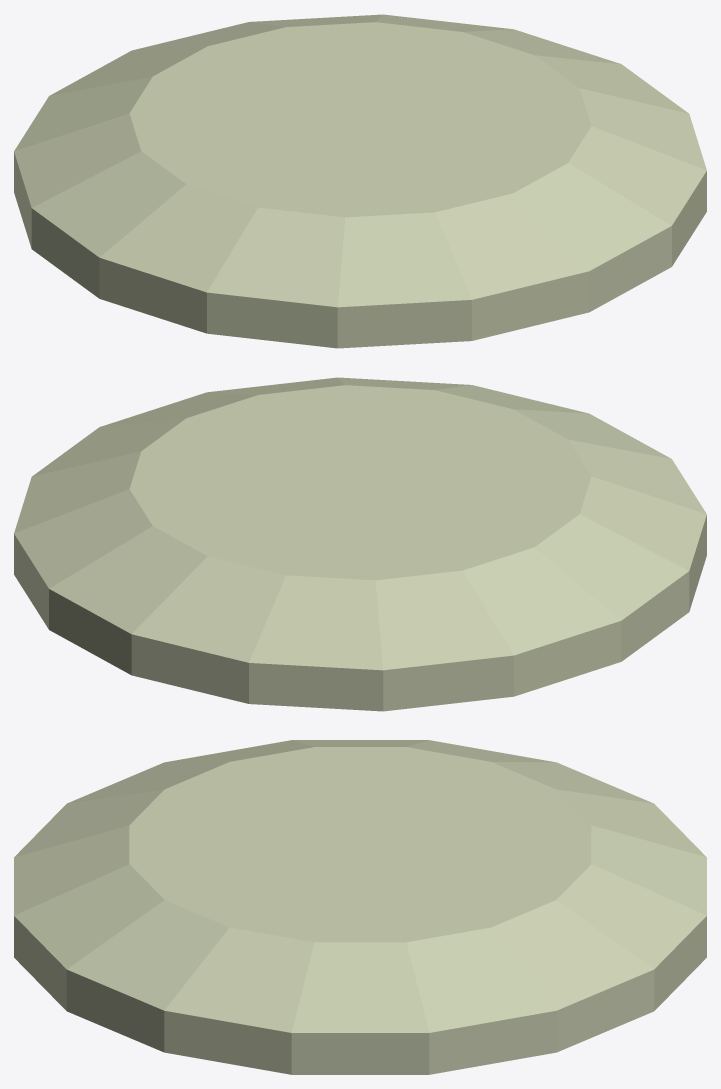
File: vega_adapter_s1p5_s1_1_collider.obj
3 renders of one model, top to bottom at view 1: azimuth 30°, elevation 25°; view 2: azimuth 150°, elevation 25°; view 3: azimuth 270°, elevation 25°, orthographic.
Parts seen in each view (by area): view 1: vega_adapter_s1p5_s1_1_collider; view 2: vega_adapter_s1p5_s1_1_collider; view 3: vega_adapter_s1p5_s1_1_collider.
Boxes of the visible parts, x1,y1,x2,y2 form: vega_adapter_s1p5_s1_1_collider: [14, 14, 706, 348]; vega_adapter_s1p5_s1_1_collider: [14, 377, 706, 711]; vega_adapter_s1p5_s1_1_collider: [14, 740, 706, 1074].
Bounding box in the file's own units: 1.88 × 0.25 × 1.88.
